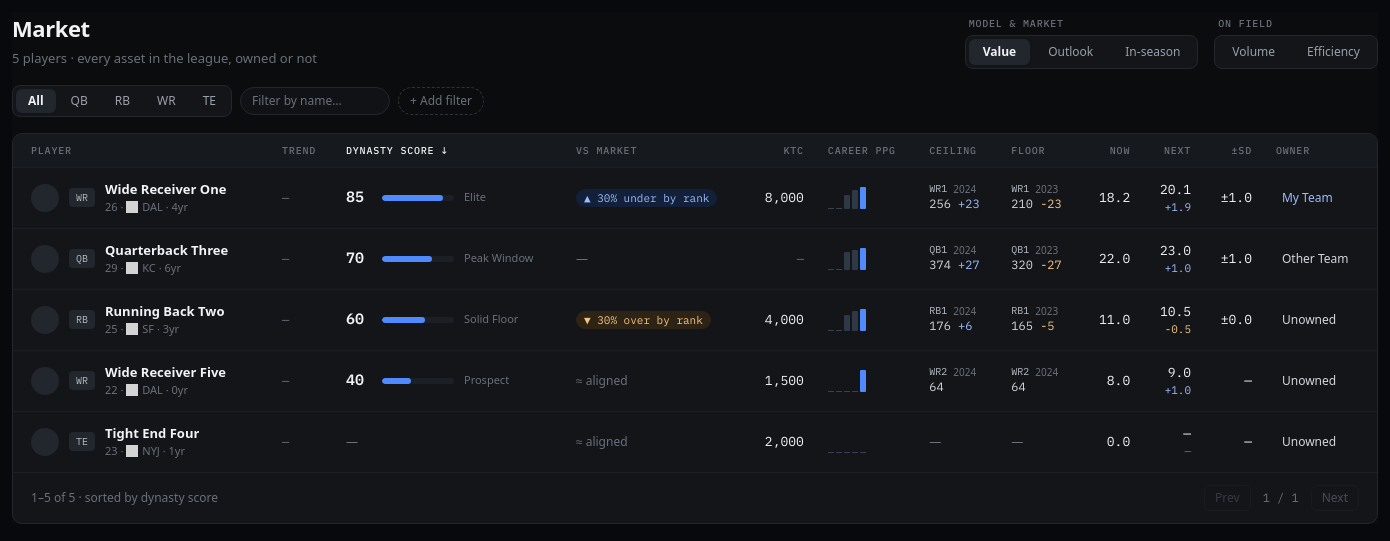
Test: Market › search (1b Slice vii) › renders a pill for an active search and clears it via the pill's ×
The width and height of the screenshot is (1390, 541).
Type "One" into the field named "Filter players by name".
click(315, 100); type("One")  # box x1=240 y1=86 x2=390 y2=114
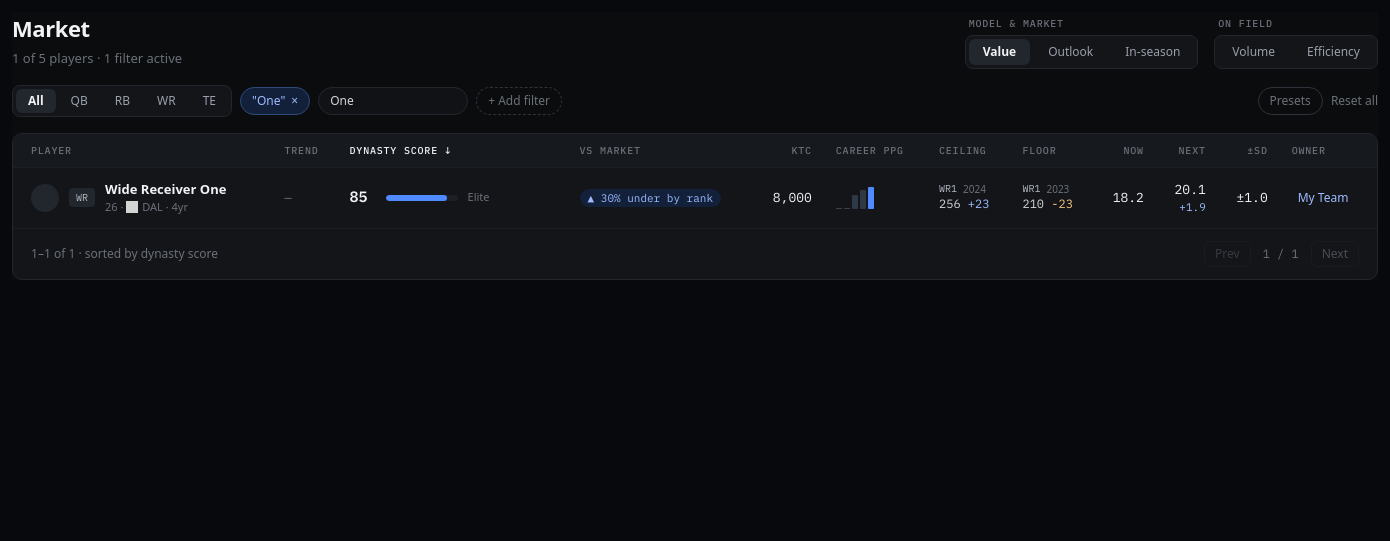
Now the text "\"One\"" is shown, box x1=252 y1=92 x2=285 y2=108
Now the button "Running Back Two" is gone
Click the button named "Clear \"One\"".
click(295, 100)  # box x1=291 y1=94 x2=298 y2=106
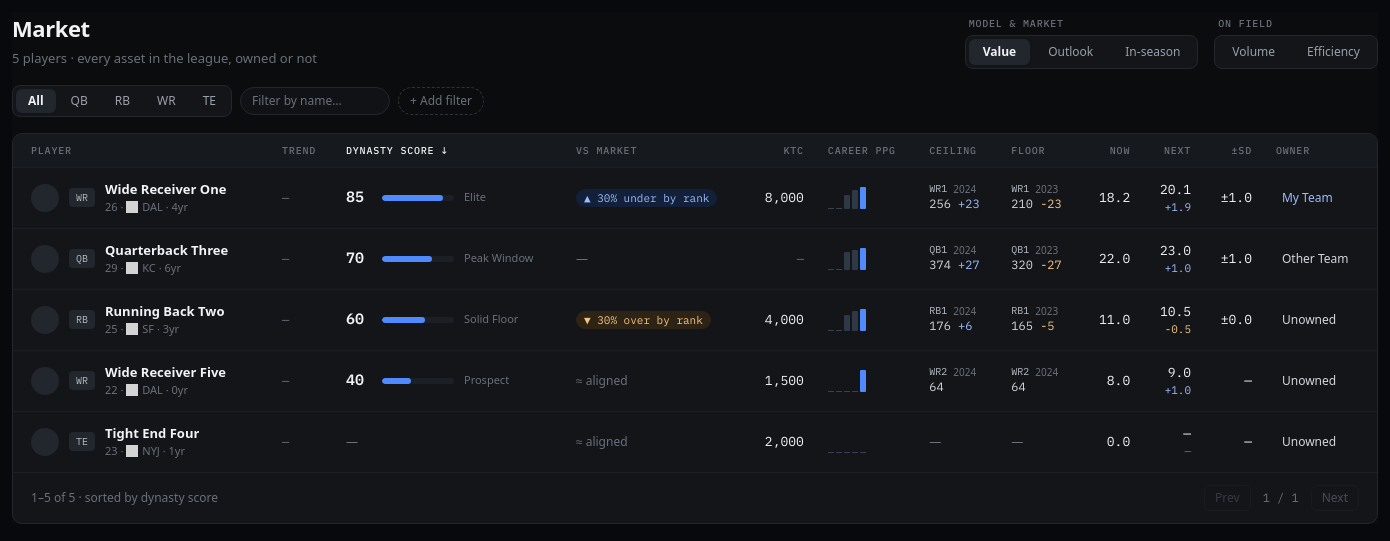
Now the text "\"One\"" is gone
Now the text "Running Back Two" is shown, box x1=105 y1=302 x2=224 y2=321
